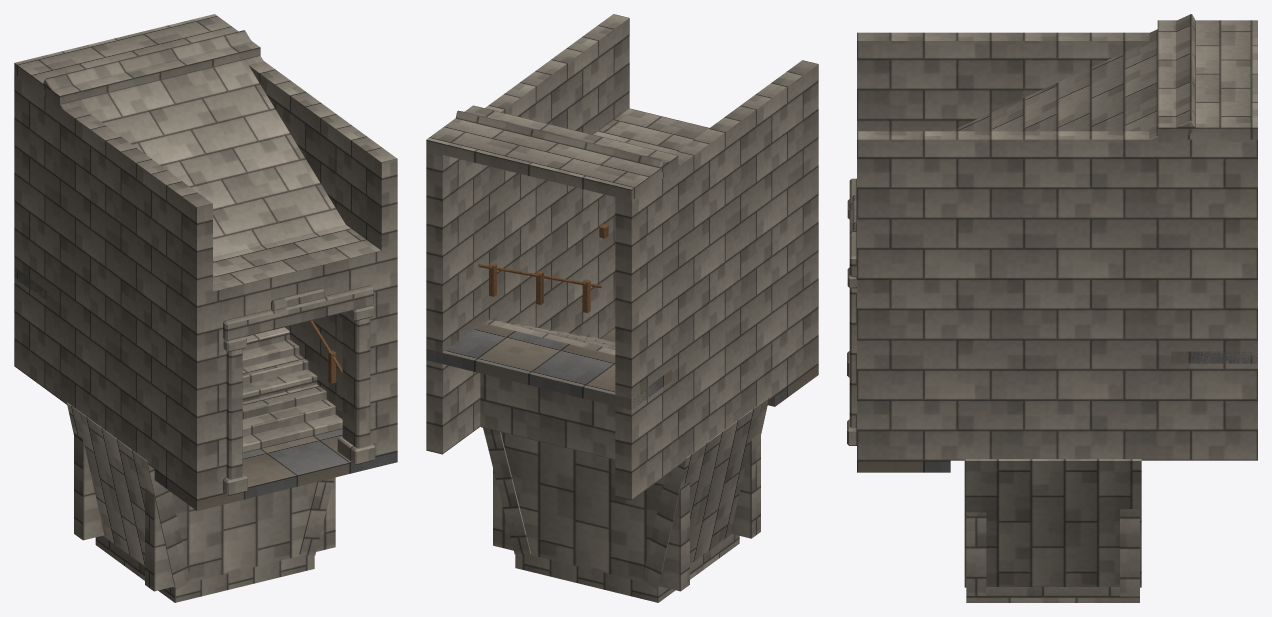
Rendered from MOD_StairsTrap.fbx.
3 renders of one model, left to right at view 1: azimuth 30°, elevation 25°; view 2: azimuth 150°, elevation 25°; view 3: azimuth 270°, elevation 25°, orthographic. The views are drawn at different scales.
Parts seen in each view (by area): view 1: Wall.002, Ceiling_Slope, Stub.001, Wall.003, Portal_Frame.003, Ceiling_Upper, Ceiling_Lower, Floor_Lower, Stairs_Steps, Portal_Side_L.003, Stairs_Steps.001, Portal_Side_R.003 (+2 smaller); view 2: Wall.002, Wall.003, Stub.001, Ceiling_Upper, Floor_Upper, Stairs_Steps, Ceiling_Slope, Ceiling_Lower, Stairs_Rail, Floor_Lower; view 3: Wall.003, Stub.001, Wall.002, Ceiling_Slope, Ceiling_Upper, Portal_Frame.003, Ceiling_Lower, Floor_Lower, Floor_Upper.
Part boxes in pixels (left/top/right/bottom): Wall.002: left=14, top=74, right=212, bottom=499; Ceiling_Slope: left=42, top=30, right=345, bottom=288; Stub.001: left=67, top=402, right=335, bottom=602; Wall.003: left=248, top=61, right=397, bottom=454; Portal_Frame.003: left=223, top=285, right=375, bottom=495; Ceiling_Upper: left=14, top=14, right=260, bottom=104; Ceiling_Lower: left=148, top=224, right=381, bottom=305; Floor_Lower: left=154, top=429, right=397, bottom=510; Stairs_Steps: left=242, top=384, right=342, bottom=452; Portal_Side_L.003: left=213, top=297, right=239, bottom=495; Stairs_Steps.001: left=242, top=327, right=308, bottom=384; Portal_Side_R.003: left=355, top=262, right=381, bottom=456; Wall.002: left=615, top=60, right=818, bottom=500; Wall.003: left=426, top=14, right=629, bottom=454; Stub.001: left=483, top=397, right=768, bottom=602; Ceiling_Upper: left=426, top=105, right=678, bottom=200; Floor_Upper: left=426, top=323, right=671, bottom=409; Stairs_Steps: left=480, top=319, right=615, bottom=459; Ceiling_Slope: left=456, top=110, right=789, bottom=193; Ceiling_Lower: left=594, top=108, right=818, bottom=201; Stairs_Rail: left=478, top=263, right=601, bottom=312; Floor_Lower: left=601, top=328, right=818, bottom=406; Wall.003: left=857, top=131, right=1257, bottom=460; Stub.001: left=964, top=459, right=1141, bottom=602; Wall.002: left=857, top=32, right=1149, bottom=131; Ceiling_Slope: left=918, top=14, right=1196, bottom=254; Ceiling_Upper: left=1157, top=20, right=1257, bottom=139; Portal_Frame.003: left=847, top=178, right=856, bottom=445; Ceiling_Lower: left=857, top=236, right=963, bottom=248; Floor_Lower: left=857, top=460, right=950, bottom=472; Floor_Upper: left=1171, top=351, right=1257, bottom=363.
Bounding box in the file's own units: 385 × 826 × 615.
